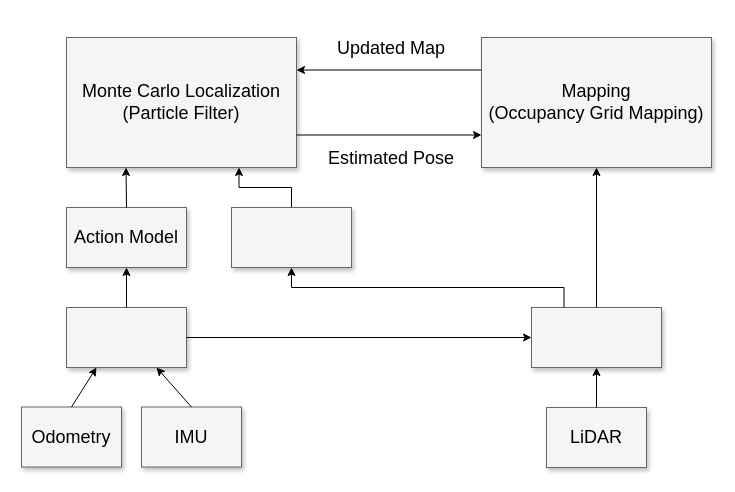
Image size: 735x492. Some labels were removed from this diagram. The centre of each missing label's shape, as x and y in pixels:
"Corrected Laser Scan" belongs at point (597, 338).
"Gyrodometry" belongs at point (127, 338).
"Sensor Model" belongs at point (292, 238).
